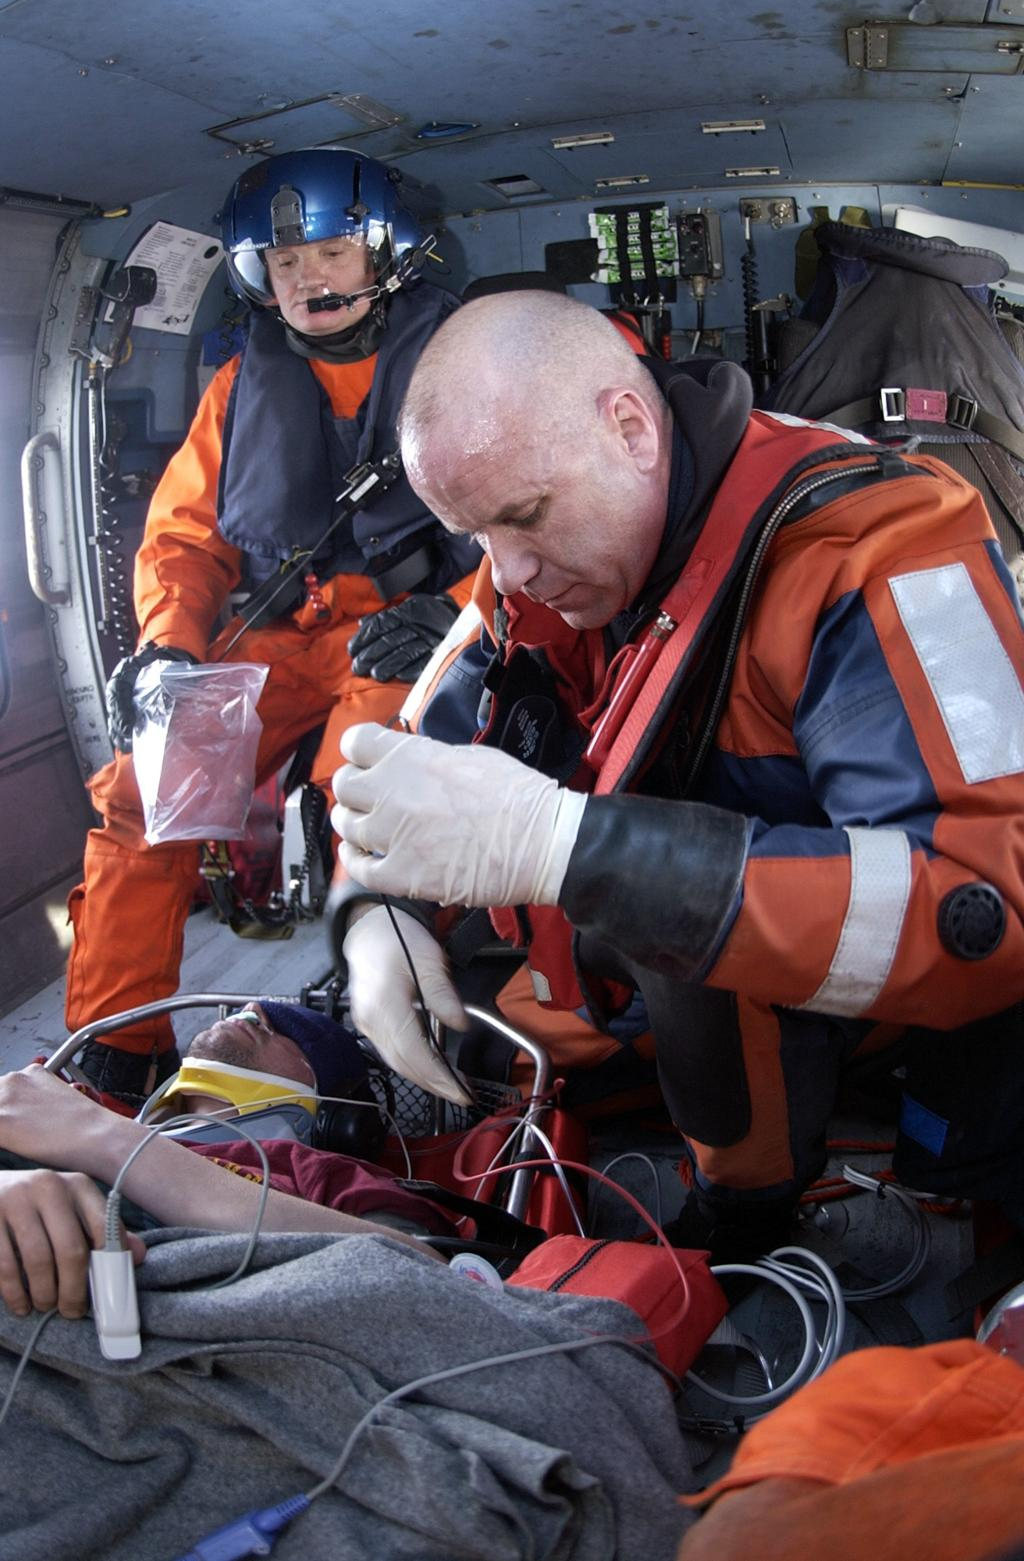face: (430, 445, 628, 637), (262, 198, 363, 344)
